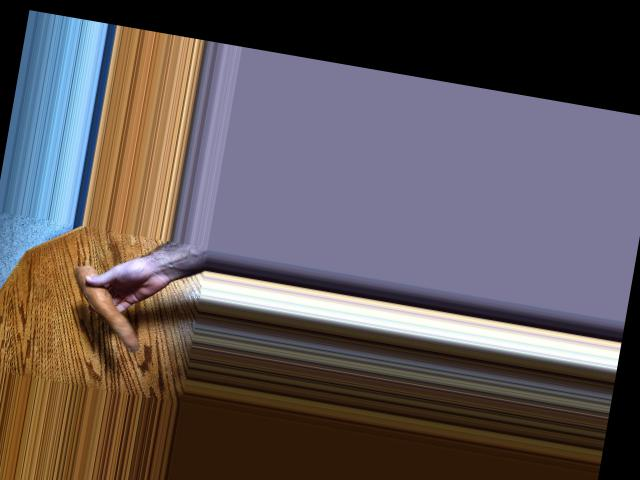sweet_potato: (65, 263, 150, 351)
